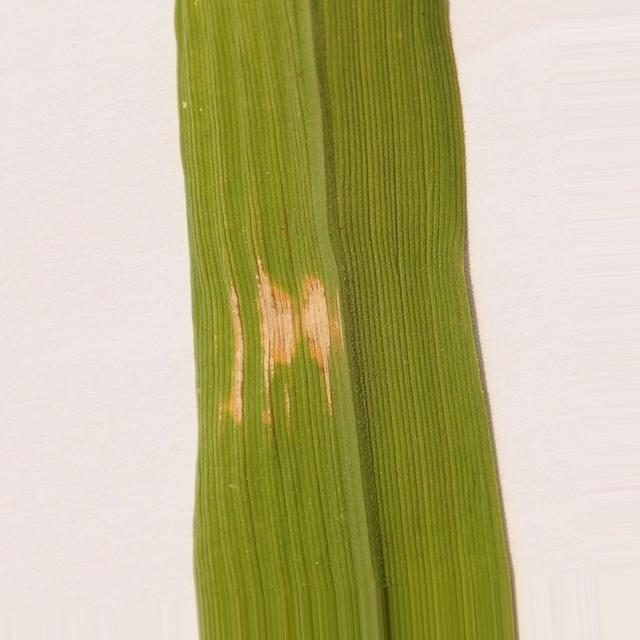Bacterial_Leaf_Blight: (256, 256, 344, 411), (228, 285, 245, 425)
